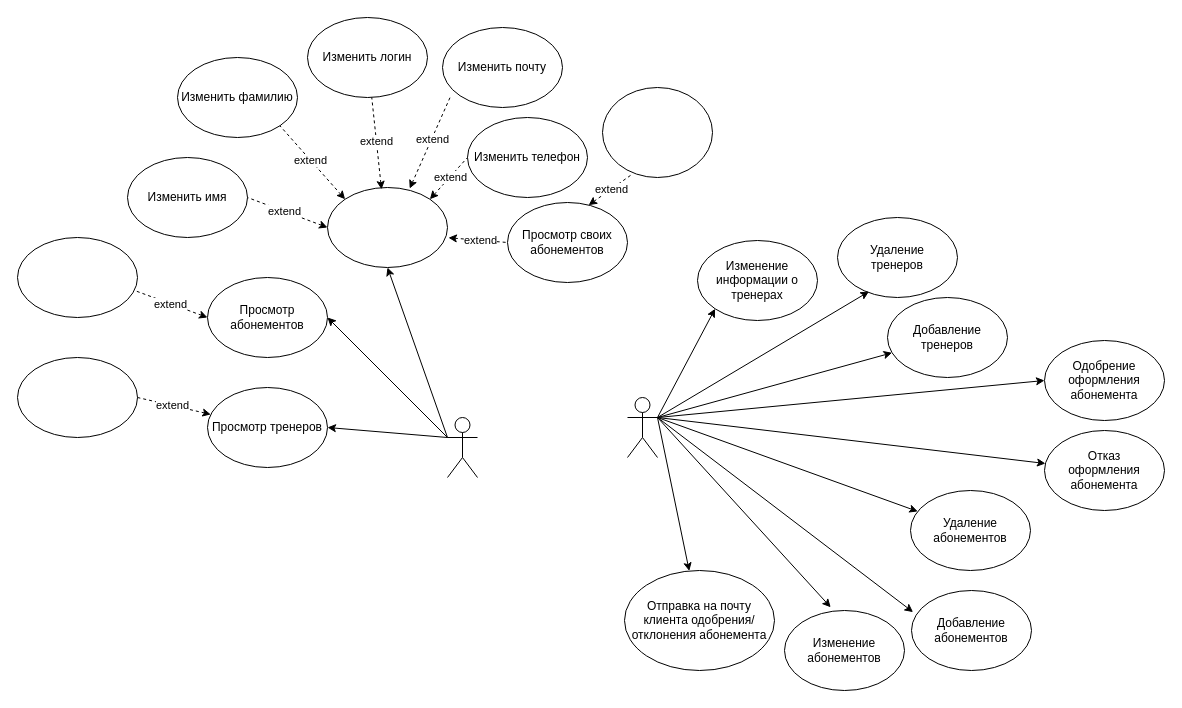
Image size: 1182x708. Some labels were removed from this diagram. The centre of each missing label's shape, as x and y in pixels:
Авторизированный пользователь: (x=462, y=447)
Администратор: (x=642, y=427)
Заморозка абонемента: (x=657, y=132)
Оставить отзыв: (x=77, y=397)
Оформить абонемент: (x=77, y=277)
Просмотр профиля: (x=387, y=227)
